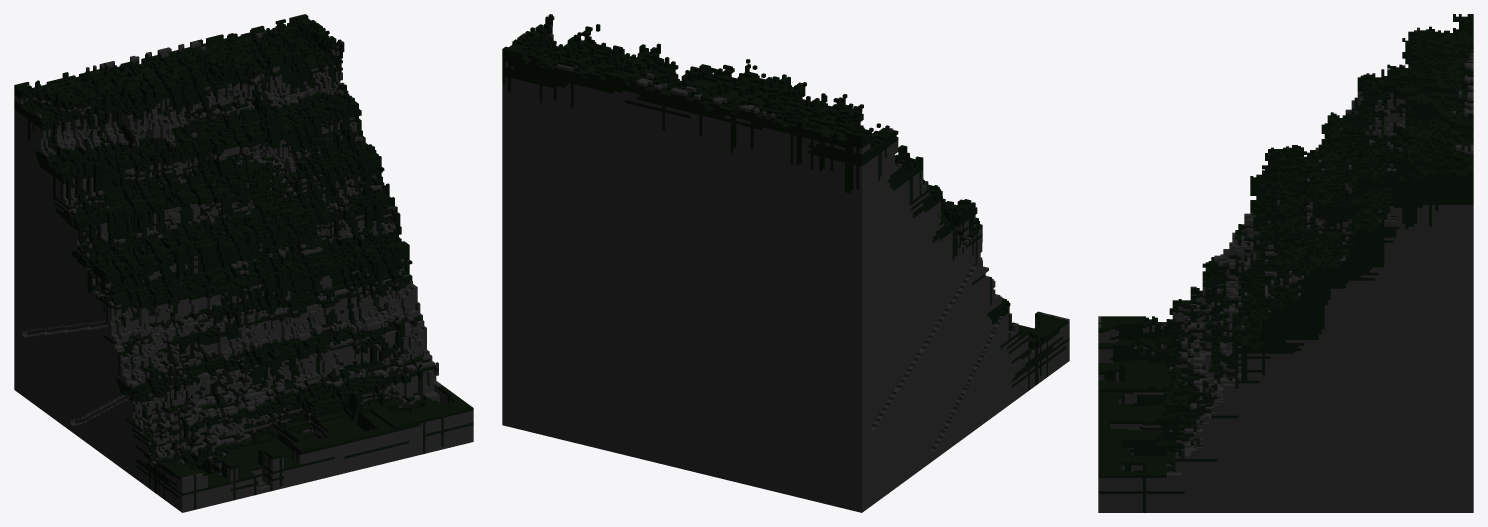
Rendered from map-63.obj.
3 renders of one model, left to right at view 1: azimuth 30°, elevation 25°; view 2: azimuth 150°, elevation 25°; view 3: azimuth 270°, elevation 25°, orthographic. The views are drawn at different scales.
Parts seen in each view (by area): view 1: map-63; view 2: map-63; view 3: map-63.
Boxes of the visible parts, x1=… form: map-63: x1=14, y1=14, x2=473, y2=512; map-63: x1=502, y1=14, x2=1069, y2=512; map-63: x1=1098, y1=14, x2=1473, y2=512.
Bounding box in the file's own units: 126 × 126 × 126.
1 material, 1 textured.
